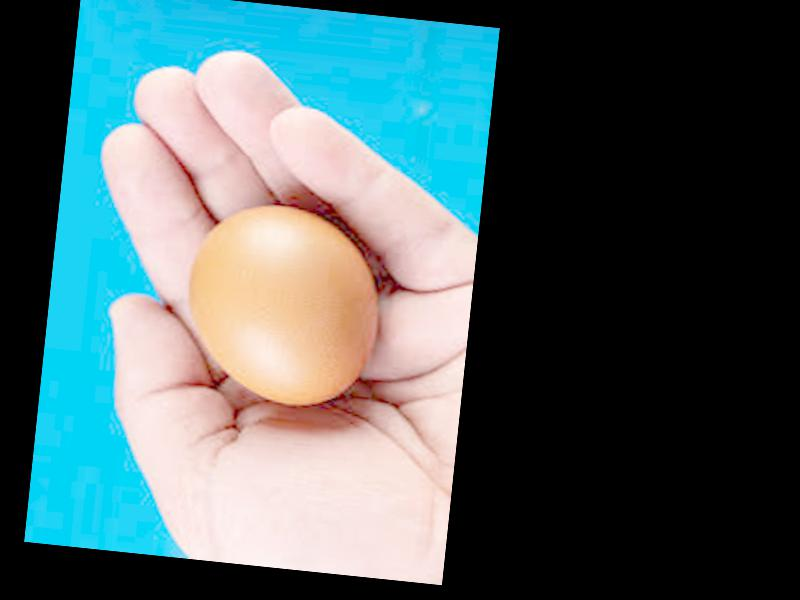Eggs: (178, 195, 383, 410)
